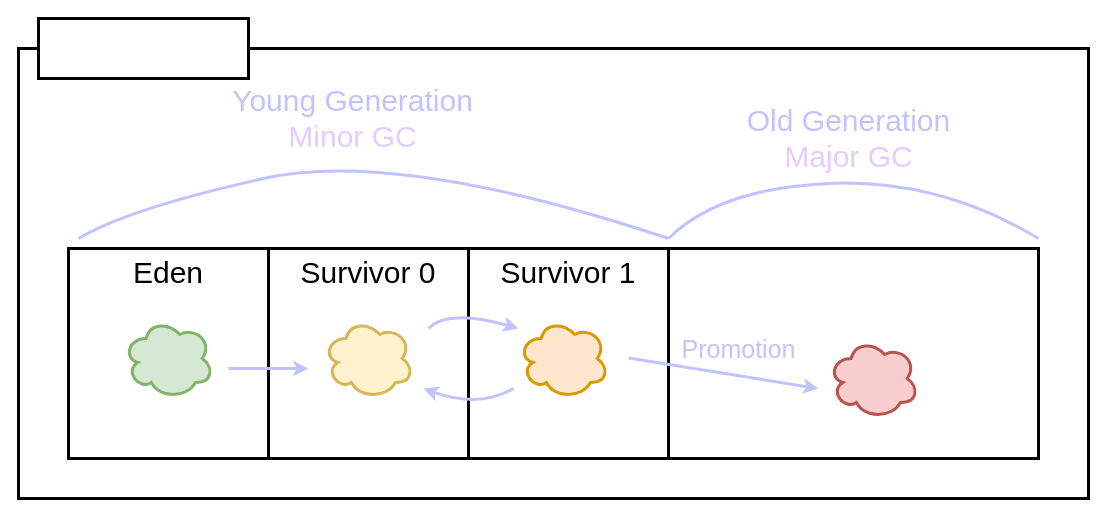
Image size: 1107x517. Some labels were removed from this diagram. Here are the shapes that lost their labels. From the top down, the box of each, then its label:
(36, 16, 250, 80): 힙 영역 구분
(666, 246, 1040, 460): Old Generation
